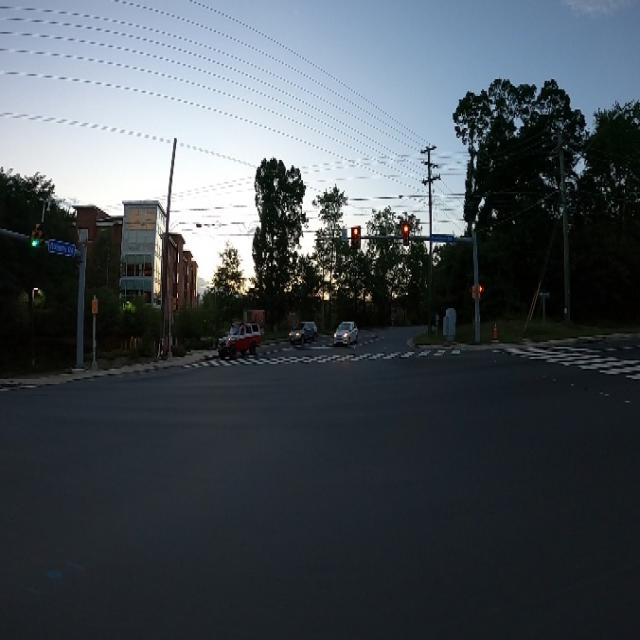cars: (215, 318, 263, 359), (291, 314, 318, 348), (334, 314, 359, 348)
